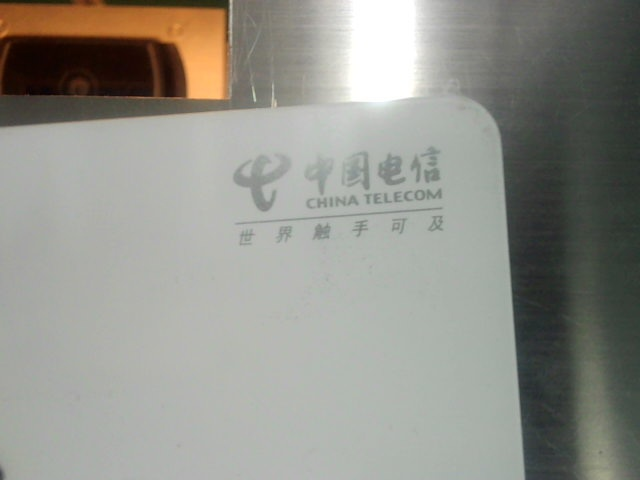AB_ChinaTelecom: (223, 143, 464, 247)
